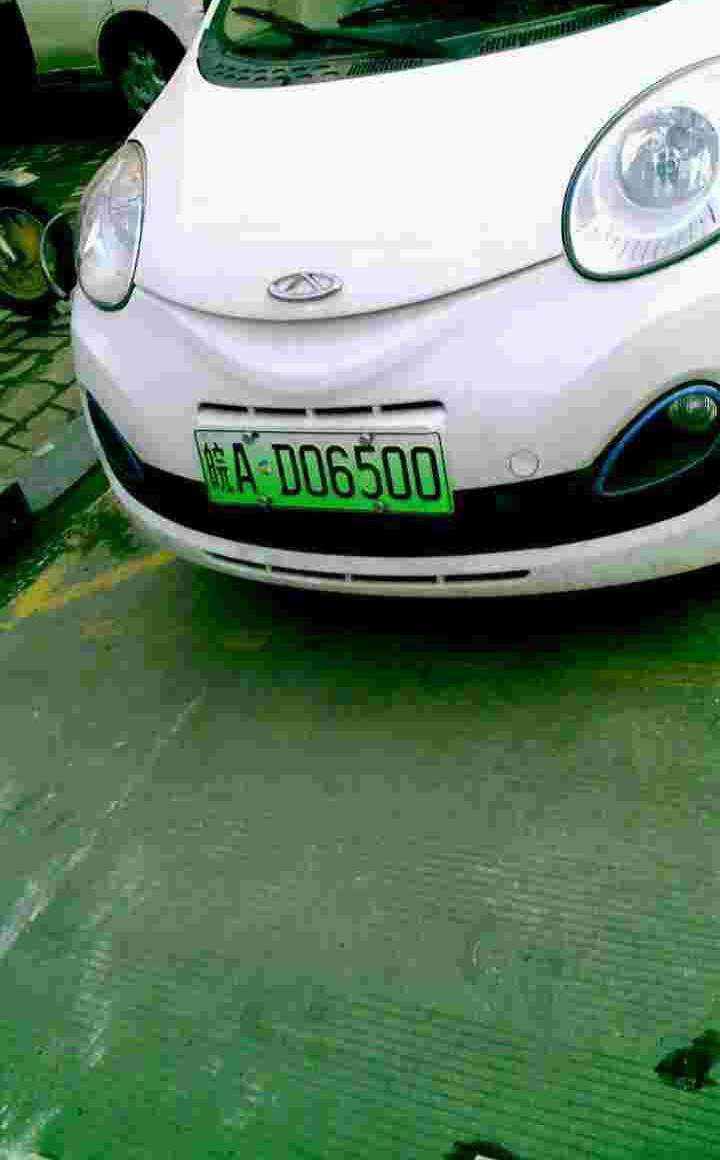car_id: (190, 428, 451, 509)
